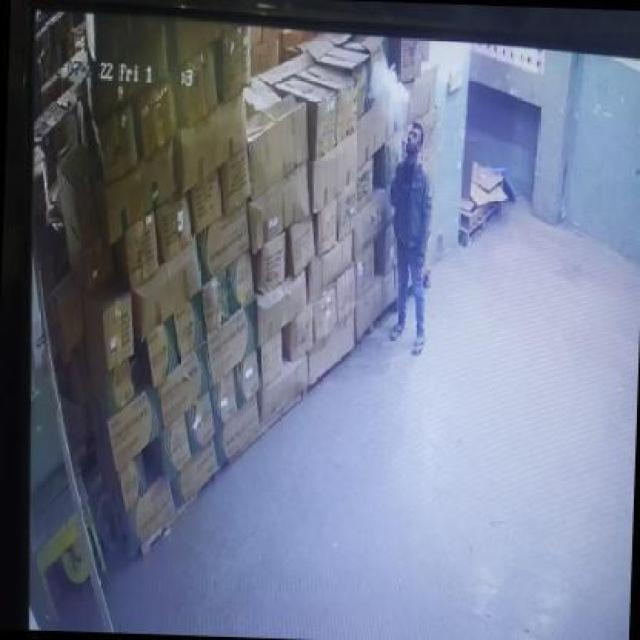fire: (364, 51, 413, 144)
